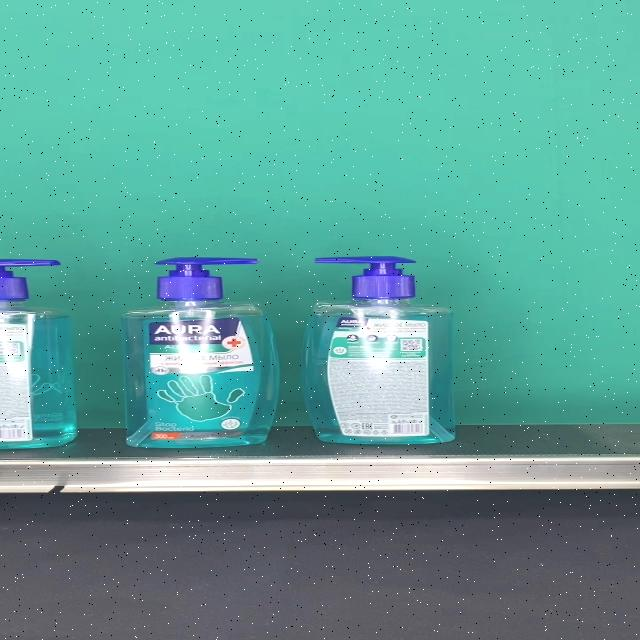Bottle: (119, 257, 278, 448), (301, 257, 456, 443)
Cap: (155, 257, 258, 300), (314, 258, 416, 300)
